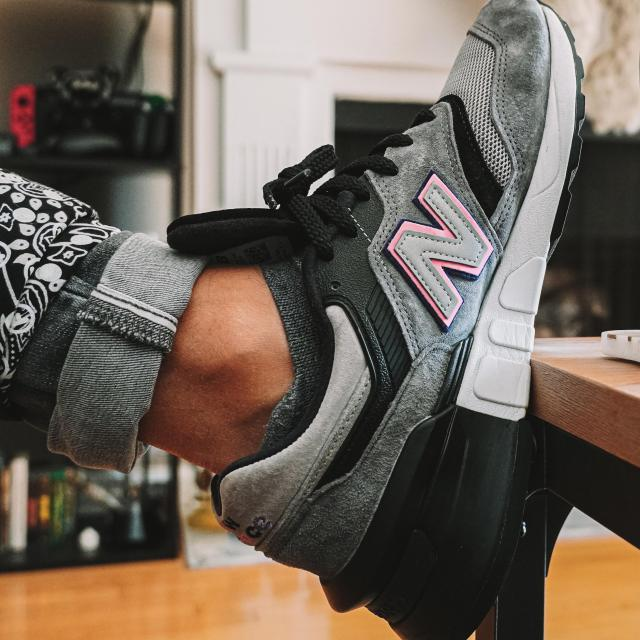shoe: (216, 0, 594, 640)
